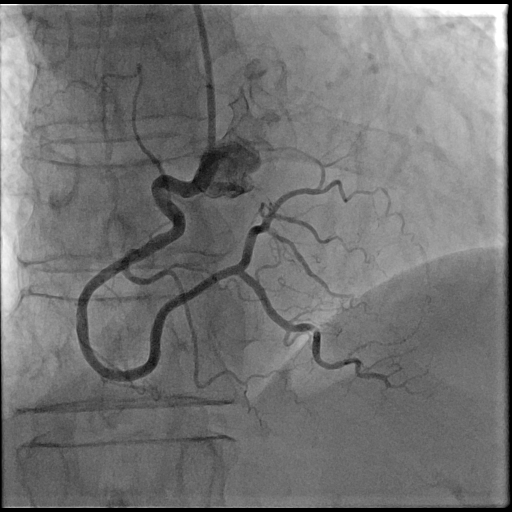RCA: (76, 176, 391, 386)
catherter: (194, 5, 216, 148)
